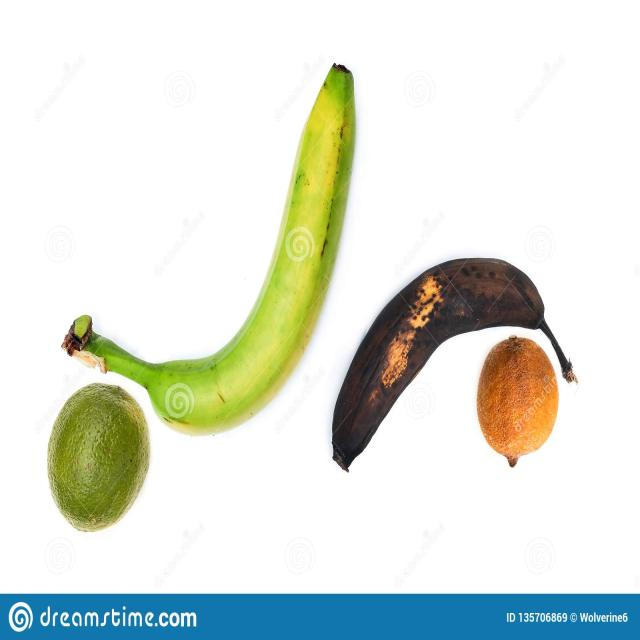non_orange: (63, 59, 358, 437)
